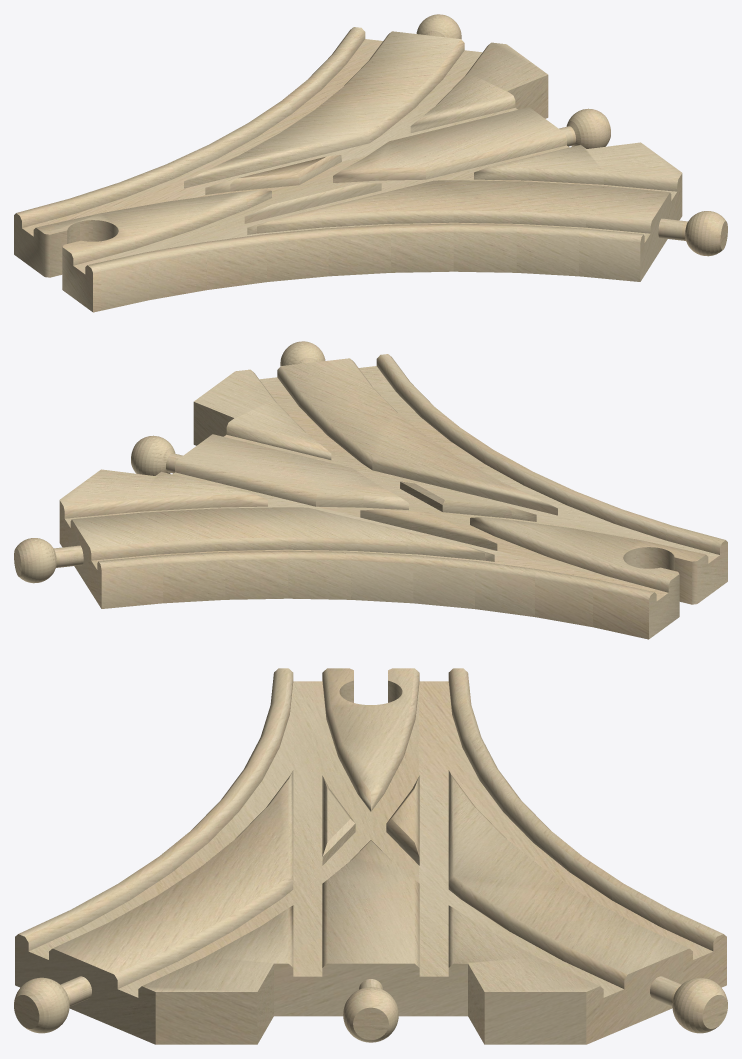
3 renders of one model, top to bottom at view 1: azimuth 30°, elevation 25°; view 2: azimuth 150°, elevation 25°; view 3: azimuth 270°, elevation 25°, orthographic. The views are drawn at different scales.
Parts seen in each view (by area): view 1: SketchUp (×3), _3d_peg (×3); view 2: SketchUp (×3), _3d_peg (×3); view 3: SketchUp (×3), _3d_peg (×3).
Boxes of the visible parts, box(x1,y1,x2,y2) form: SketchUp (×3): box(14, 27, 682, 312); _3d_peg (×3): box(416, 14, 727, 256); SketchUp (×3): box(59, 354, 727, 639); _3d_peg (×3): box(14, 341, 325, 583); SketchUp (×3): box(15, 668, 726, 1044); _3d_peg (×3): box(14, 976, 727, 1042).
Bounding box in the file's own units: 6.32 × 5.79 × 0.4724.
